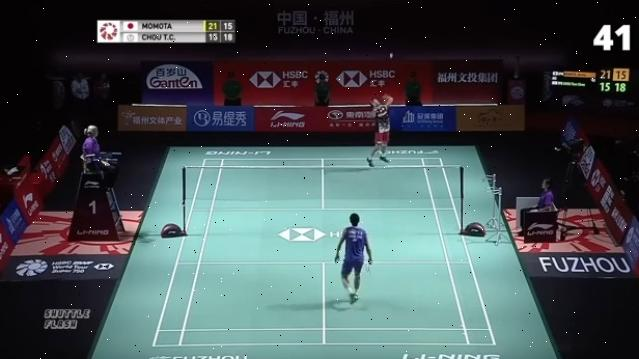Shuttlecock: (388, 52, 394, 58)
